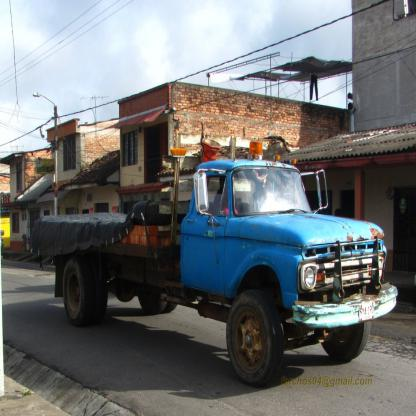Truck: (30, 140, 398, 388)
